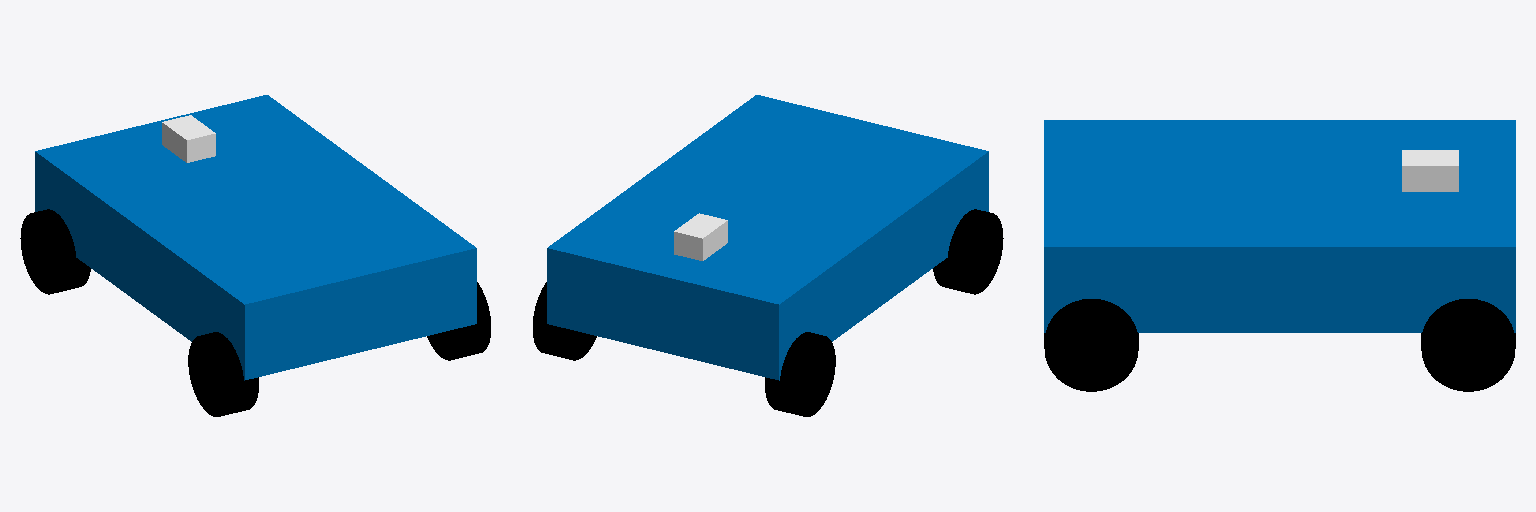
The robot description file, URDF, robot "smartcar":
<?xml version="1.0"?> 
<robot name="smartcar">
    <link name="base_link">
        <visual>
            <geometry>
                <box size="0.25 .16 .05"/>
            </geometry>

            <origin rpy="0 0 1.57075" xyz="0 0 0"/>

            <material name="blue">
                <color rgba="0 .5 .8 1"/>
            </material>
        </visual>
    </link>

    <link name="right_front_wheel">  
        <visual>  
            <geometry>  
                <cylinder length=".02" radius="0.025"/>  
            </geometry>  

            <material name="black">  
                <color rgba="0 0 0 1"/>  
            </material>  
        </visual>  
    </link>  
    
    <joint name="right_front_wheel_joint" type="continuous">  
        <axis xyz="0 0 1"/>  
        <parent link="base_link"/>  
        <child link="right_front_wheel"/>  
        <origin rpy="0 1.57075 0" xyz="0.08 0.1 -0.03"/>  
        <limit effort="100" velocity="100"/>  
        <joint_properties damping="0.0" friction="0.0"/>  
    </joint>  
    
    <link name="right_back_wheel">  
    <visual>  
        <geometry>  
        <cylinder length=".02" radius="0.025"/>  
        </geometry>  
        <material name="black">  
        <color rgba="0 0 0 1"/>  
        </material>  
    </visual>  
    </link>  
    
    <joint name="right_back_wheel_joint" type="continuous">  
        <axis xyz="0 0 1"/>  
        <parent link="base_link"/>  
        <child link="right_back_wheel"/>  
        <origin rpy="0 1.57075 0" xyz="0.08 -0.1 -0.03"/>  
        <limit effort="100" velocity="100"/>  
        <joint_properties damping="0.0" friction="0.0"/>  
    </joint>  
    
    <link name="left_front_wheel">  
        <visual>  
            <geometry>  
                <cylinder length=".02" radius="0.025"/>  
            </geometry>  
            <material name="black">  
                <color rgba="0 0 0 1"/>  
            </material>  
        </visual>  
    </link>  
    
    <joint name="left_front_wheel_joint" type="continuous">  
        <axis xyz="0 0 1"/>  
        <parent link="base_link"/>  
        <child link="left_front_wheel"/>  
        <origin rpy="0 1.57075 0" xyz="-0.08 0.1 -0.03"/>  
        <limit effort="100" velocity="100"/>  
        <joint_properties damping="0.0" friction="0.0"/>  
    </joint>  
    
    <link name="left_back_wheel">  
        <visual>  
            <geometry>  
                <cylinder length=".02" radius="0.025"/>  
            </geometry>  
            <material name="black">  
                <color rgba="0 0 0 1"/>  
            </material>  
        </visual>  
    </link>  
    
    <joint name="left_back_wheel_joint" type="continuous">  
        <axis xyz="0 0 1"/>  
        <parent link="base_link"/>  
        <child link="left_back_wheel"/>  
        <origin rpy="0 1.57075 0" xyz="-0.08 -0.1 -0.03"/>  
        <limit effort="100" velocity="100"/>  
        <joint_properties damping="0.0" friction="0.0"/>  
    </joint>  
    
    <link name="head">  
        <visual>  
            <geometry>  
                <box size=".02 .03 .03"/>  
            </geometry>  
            <material name="white">
                <color rgba="1 1 1 1"/>  
            </material>  
        </visual>  
    </link>  
    
    <joint name="tobox" type="fixed">  
        <parent link="base_link"/>  
        <child link="head"/>  
        <origin xyz="0 0.08 0.025"/>  
    </joint>  
</robot>

--- Render facts (derived) ---
3 views of the same robot in one strip: view 1: azimuth 30°, elevation 25°; view 2: azimuth 150°, elevation 25°; view 3: azimuth 270°, elevation 25° (orthographic).
Robot: smartcar — 6 links, 5 joints (4 continuous, 1 fixed); root link base_link; default pose: every joint at zero.
Links seen in each view (by area): view 1: base_link, left_back_wheel, left_front_wheel, right_back_wheel, head; view 2: base_link, left_front_wheel, left_back_wheel, right_front_wheel, head; view 3: base_link, right_back_wheel, right_front_wheel, head.
Link boxes in pixels (x1,y1,x2,y2): base_link: (35, 95, 476, 380); left_back_wheel: (188, 332, 258, 416); left_front_wheel: (20, 209, 90, 294); right_back_wheel: (427, 282, 490, 360); head: (162, 115, 215, 162); base_link: (547, 95, 988, 380); left_front_wheel: (765, 332, 835, 416); left_back_wheel: (933, 209, 1003, 294); right_front_wheel: (533, 282, 596, 360); head: (674, 213, 727, 260); base_link: (1044, 120, 1515, 332); right_back_wheel: (1044, 299, 1138, 391); right_front_wheel: (1421, 299, 1515, 391); head: (1402, 150, 1458, 191).
Size in the robot's own frame: 0.18 by 0.25 by 0.095 metres.
Geometry: primitives only (box / cylinder / sphere), no mesh files.